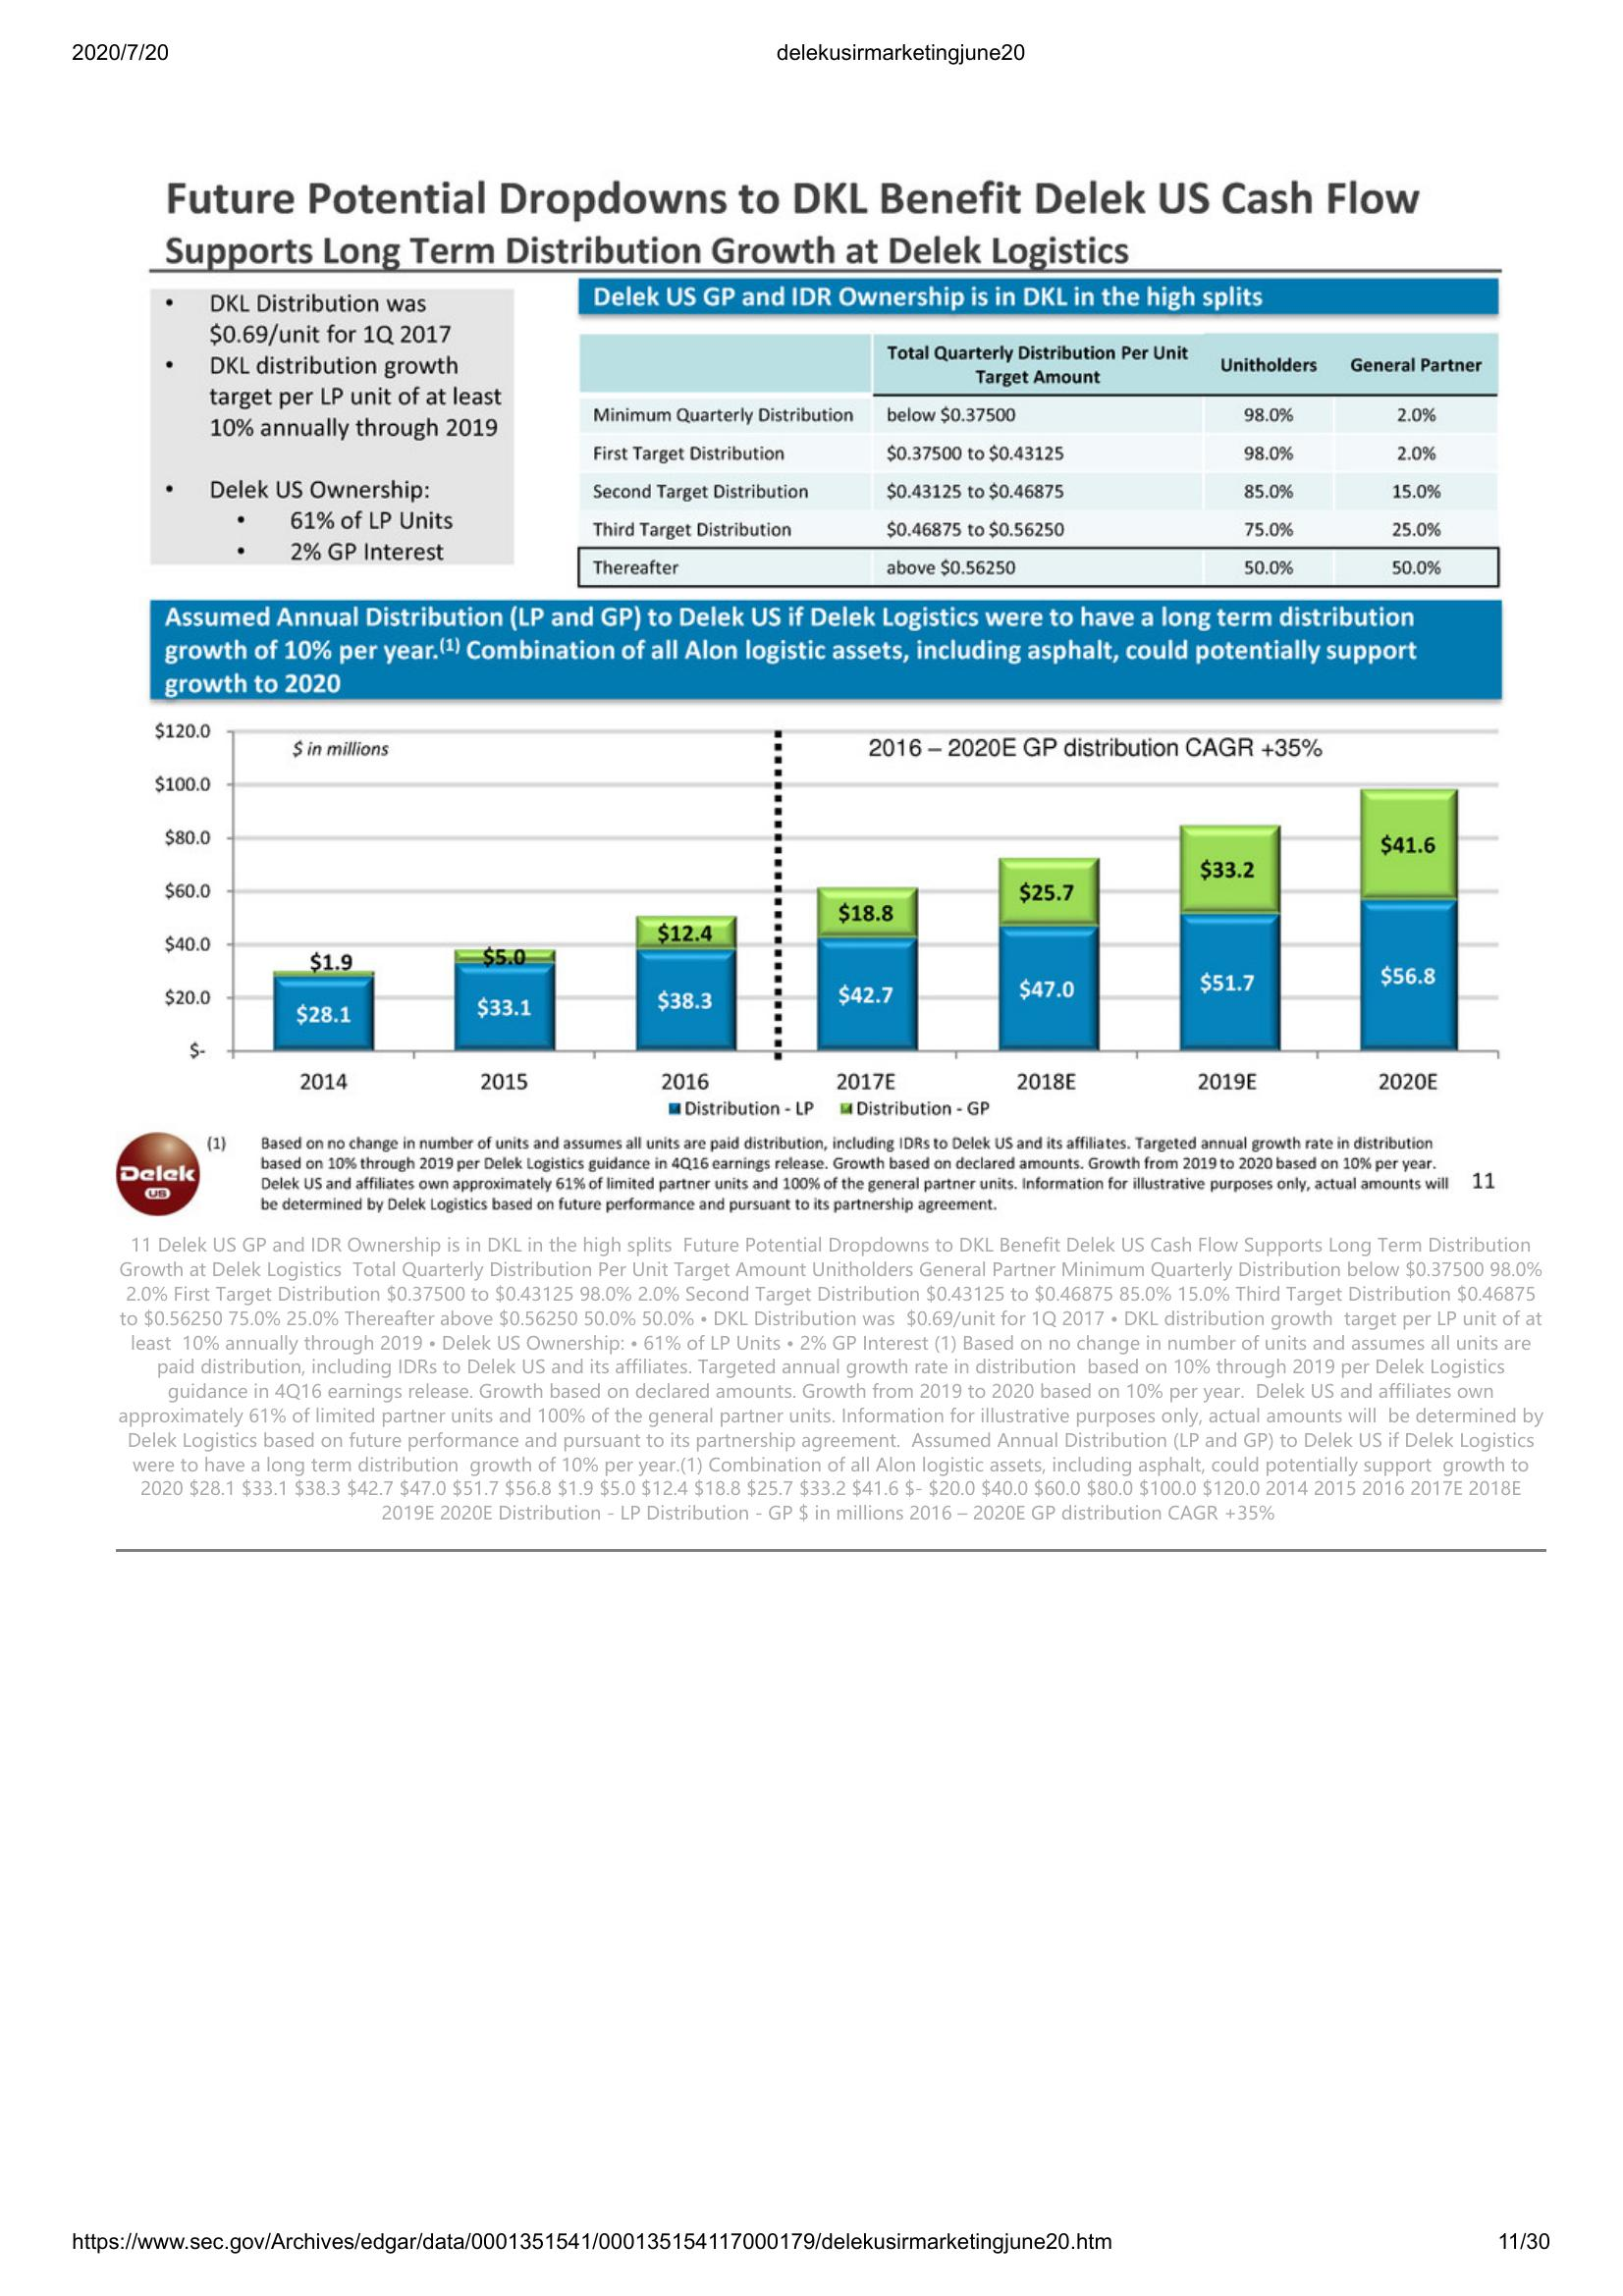table: (569, 276, 1509, 592)
